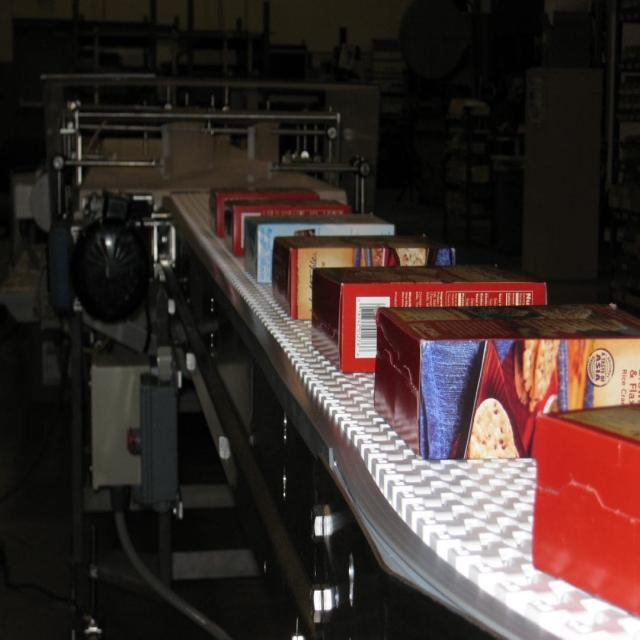food: (372, 301, 638, 461), (309, 262, 548, 374), (530, 401, 639, 619), (270, 232, 457, 322)
